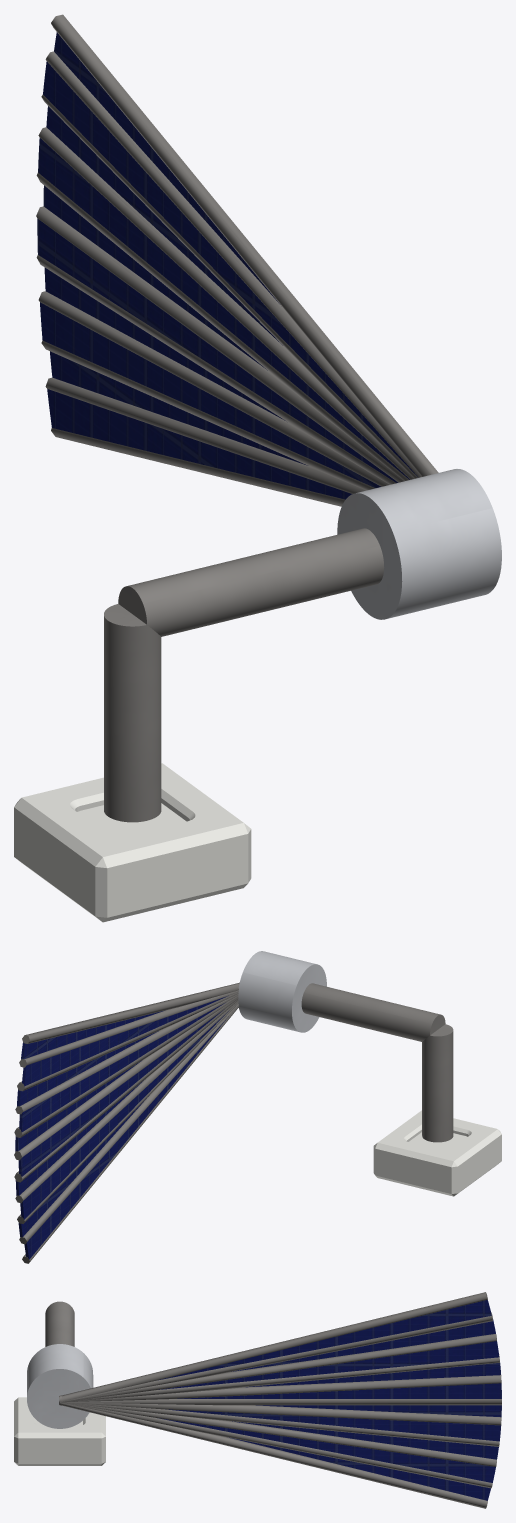
Rendered from ax_power_03_fan_array_s.glb.
3 views of the same model, one above another, from view 1: azimuth 30°, elevation 25°; view 2: azimuth 150°, elevation 25°; view 3: azimuth 270°, elevation 25° (orthographic). The views are drawn at different scales.
Parts seen in each view (by area): view 1: spars, yoke, mount_block, hub, petal_9, petal_3, petal_7, petal_5, petal_1, petal_2, petal_4, petal_8 (+2 smaller); view 2: spars, yoke, mount_block, hub, petal_1, petal_9, petal_3, petal_7, petal_5, petal_10, petal_8, petal_2 (+2 smaller); view 3: spars, mount_block, hub, petal_8, petal_10, petal_2, petal_4, petal_6, petal_9, petal_1, petal_3, petal_7 (+2 smaller).
Boxes of the visible parts, bbox=[...] form: spars: bbox=[36, 14, 438, 506]; yoke: bbox=[104, 528, 384, 822]; mount_block: bbox=[14, 763, 251, 922]; hub: bbox=[337, 469, 501, 619]; petal_9: bbox=[43, 61, 418, 477]; petal_3: bbox=[40, 302, 380, 487]; petal_7: bbox=[38, 138, 409, 479]; petal_5: bbox=[37, 218, 398, 482]; petal_1: bbox=[47, 389, 352, 499]; petal_2: bbox=[50, 351, 307, 465]; petal_4: bbox=[44, 267, 285, 420]; petal_8: bbox=[46, 106, 282, 345]; spars: bbox=[14, 982, 239, 1263]; yoke: bbox=[301, 983, 453, 1142]; mount_block: bbox=[373, 1110, 501, 1196]; hub: bbox=[238, 951, 326, 1032]; petal_1: bbox=[24, 1016, 228, 1259]; petal_9: bbox=[22, 996, 227, 1086]; petal_3: bbox=[20, 1011, 228, 1219]; petal_7: bbox=[19, 1003, 224, 1132]; petal_5: bbox=[18, 1009, 224, 1176]; petal_10: bbox=[21, 1010, 164, 1059]; petal_8: bbox=[17, 1031, 158, 1106]; petal_2: bbox=[18, 1095, 149, 1237]; spars: bbox=[59, 1292, 501, 1508]; mount_block: bbox=[14, 1397, 105, 1465]; hub: bbox=[27, 1344, 93, 1428]; petal_8: bbox=[159, 1341, 499, 1389]; petal_10: bbox=[158, 1300, 491, 1380]; petal_2: bbox=[159, 1418, 495, 1482]; petal_4: bbox=[165, 1409, 501, 1441]; petal_6: bbox=[177, 1383, 501, 1398]; petal_9: bbox=[231, 1319, 495, 1371]; petal_1: bbox=[229, 1437, 490, 1500]; petal_3: bbox=[232, 1421, 498, 1459]; petal_7: bbox=[246, 1363, 500, 1387].
Bounding box in the file's own units: 0.687 × 0.7222 × 1.33.
Materials: 4 (3 with a texture image).
